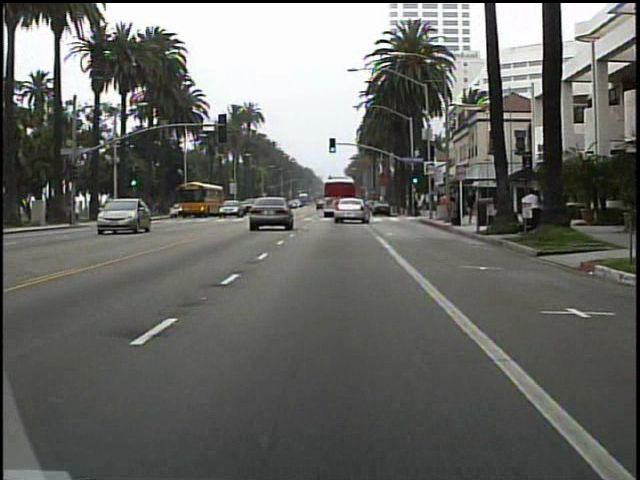person: (521, 185, 542, 236), (463, 185, 475, 226)
